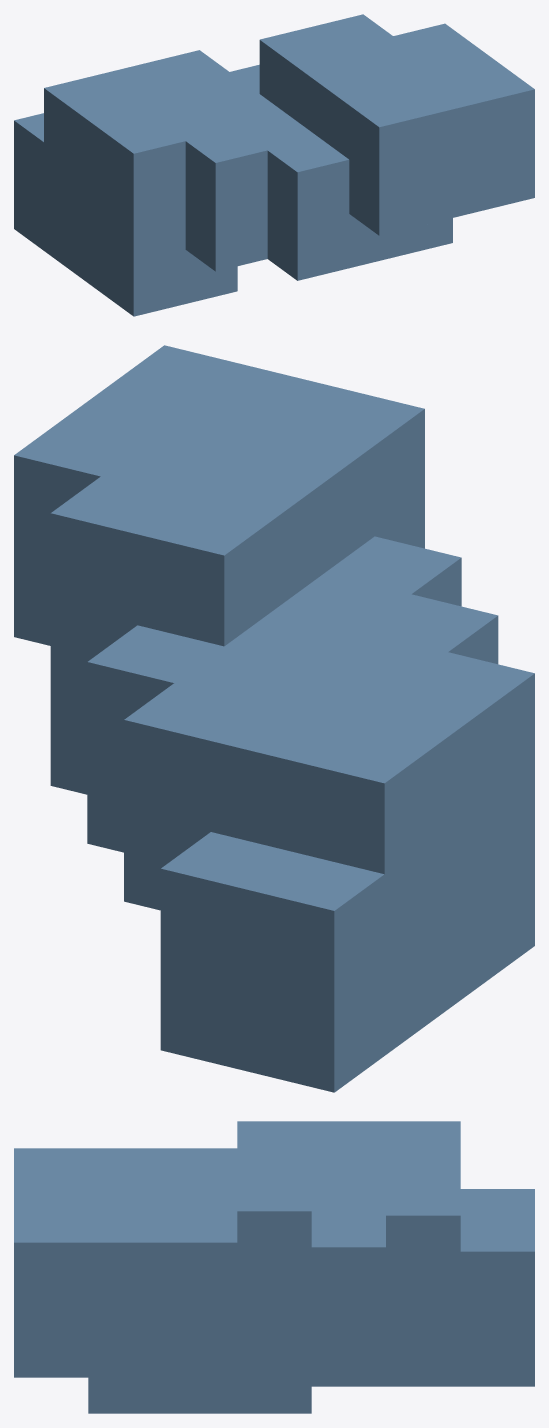
Rendered from dolphin__fin_r.obj.
3 views of the same model, one above another, from view 1: azimuth 30°, elevation 25°; view 2: azimuth 150°, elevation 25°; view 3: azimuth 270°, elevation 25° (orthographic). The views are drawn at different scales.
Parts seen in each view (by area): view 1: dolphin__fin_r; view 2: dolphin__fin_r; view 3: dolphin__fin_r.
Part boxes in pixels (box(x1,y1,x2,y2)): dolphin__fin_r: box(14, 14, 534, 316); dolphin__fin_r: box(14, 345, 534, 1092); dolphin__fin_r: box(14, 1121, 534, 1413).
Size of the model in its own units: 0.6 by 0.4 by 0.7.
1 material, 1 textured.
